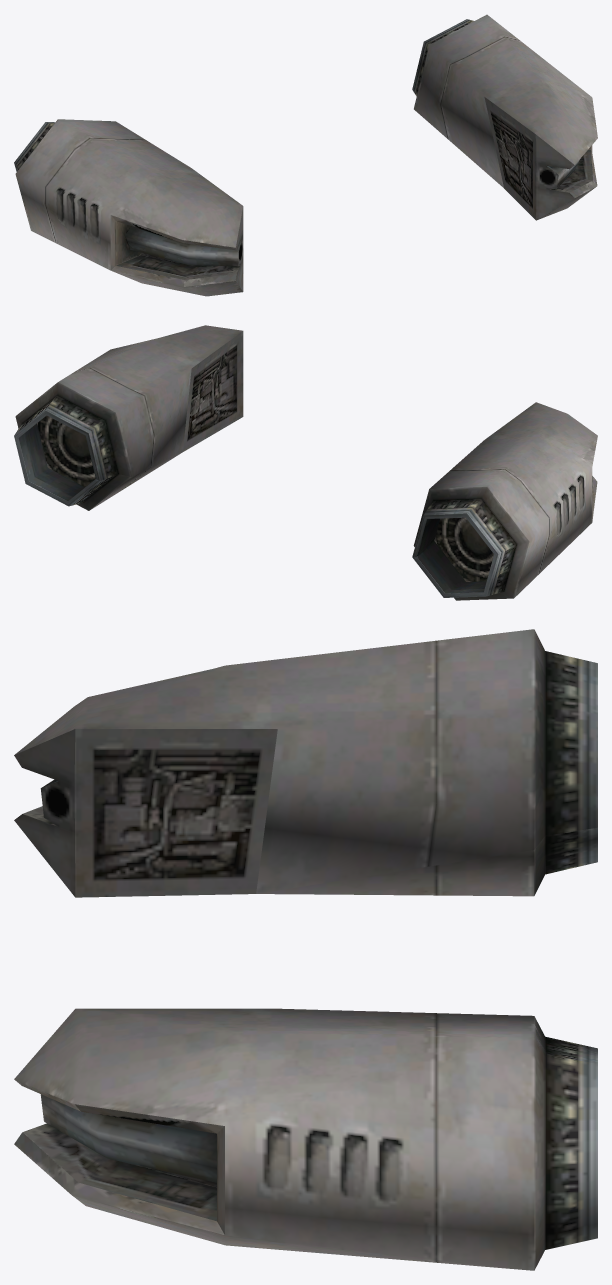
File: hutt_fighter_heavy_booster_s02_l1.fbx
3 views of the same model, one above another, from view 1: azimuth 30°, elevation 25°; view 2: azimuth 150°, elevation 25°; view 3: azimuth 270°, elevation 25° (orthographic). The views are drawn at different scales.
Parts seen in each view (by area): view 1: mesh_node; view 2: mesh_node; view 3: mesh_node.
Part boxes in pixels (x1=…): mesh_node: x1=14, y1=14, x2=597, y2=296; mesh_node: x1=14, y1=325, x2=597, y2=600; mesh_node: x1=14, y1=629, x2=597, y2=1270.
Size of the model in its own units: 9.51 by 2.14 by 4.78.
1 material, 1 textured.
